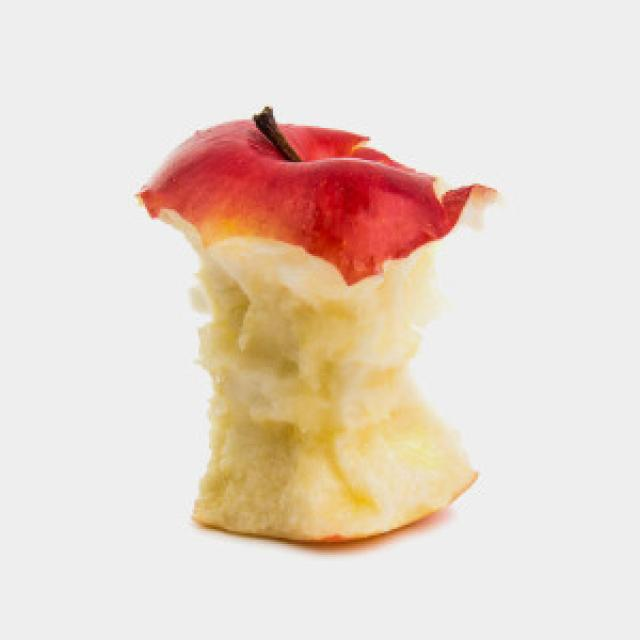organic: (133, 104, 498, 543)
